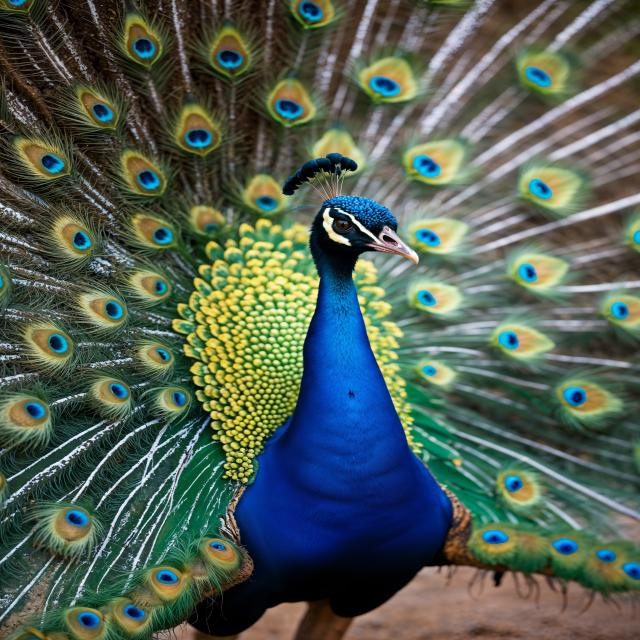peacock: (0, 1, 640, 636)
